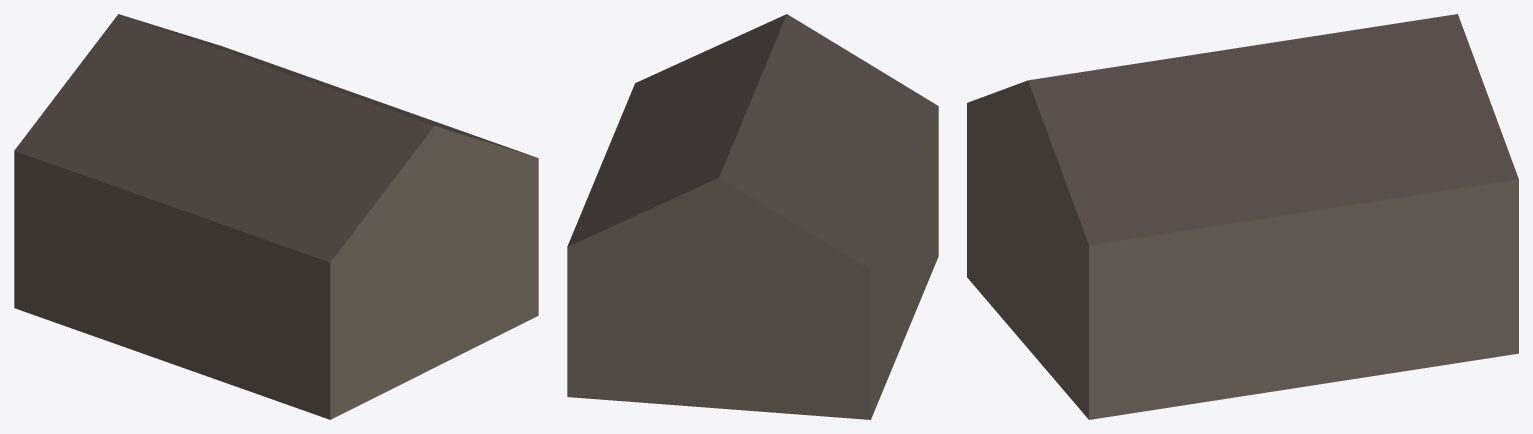
The picture shows the model from 3 angles, left to right: view 1: azimuth 30°, elevation 25°; view 2: azimuth 150°, elevation 25°; view 3: azimuth 270°, elevation 25°; orthographic projection. The views are drawn at different scales.
Visible parts, largest first — view 1: HP-w369342570; view 2: HP-w369342570; view 3: HP-w369342570.
Boxes of the visible parts, box(x1,y1,x2,y2) form: HP-w369342570: box(14, 14, 538, 419); HP-w369342570: box(567, 14, 938, 419); HP-w369342570: box(967, 14, 1518, 419).
Bounding box in the file's own units: 23.11 × 13.84 × 25.79.
